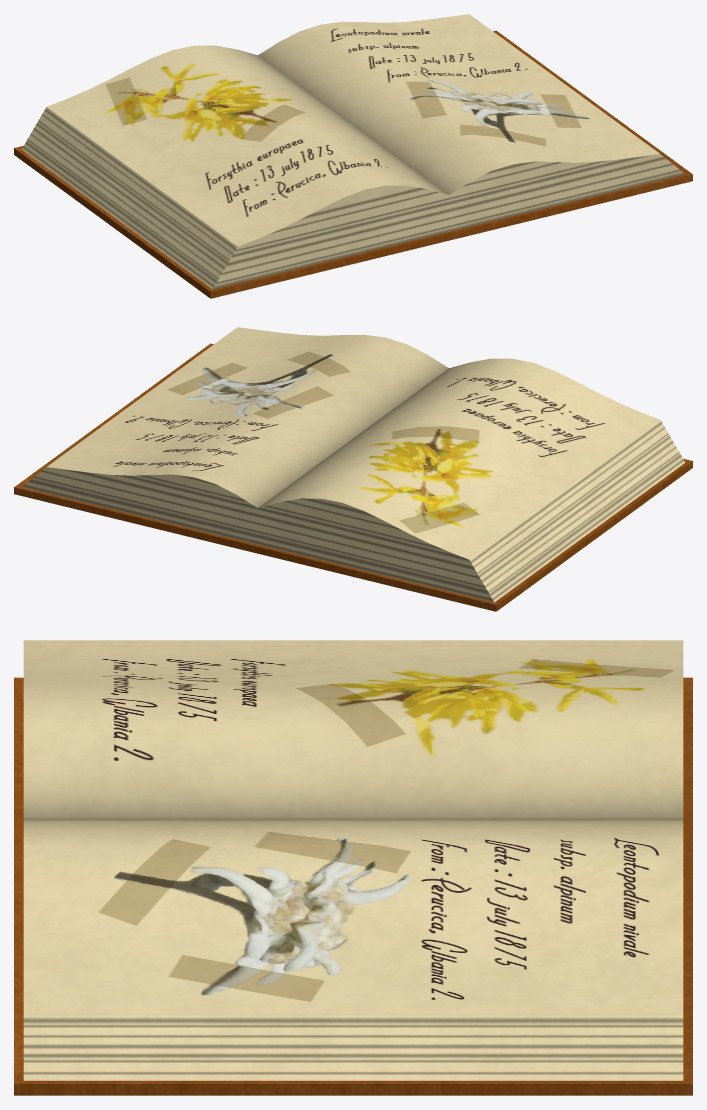
Rendered from Herbier.glb.
3 views of the same model, one above another, from view 1: azimuth 30°, elevation 25°; view 2: azimuth 150°, elevation 25°; view 3: azimuth 270°, elevation 25° (orthographic). The views are drawn at different scales.
Visible parts, largest first — view 1: LivreOuvert; view 2: LivreOuvert; view 3: LivreOuvert.
Boxes of the visible parts, box(x1,y1,x2,y2) form: LivreOuvert: box(14, 14, 692, 298); LivreOuvert: box(14, 327, 692, 611); LivreOuvert: box(14, 640, 692, 1095).
Size of the model in its own units: 2.04 by 0.2781 by 1.44.
1 material, 1 textured.
